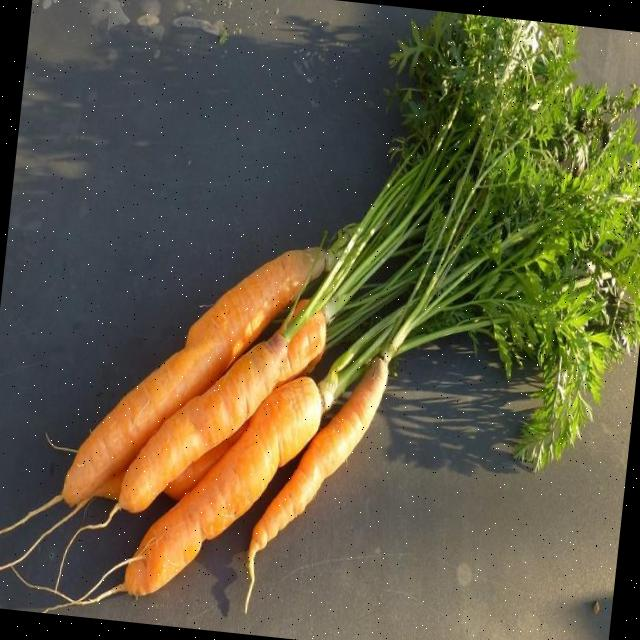carrot: (62, 247, 323, 503), (117, 293, 327, 515), (122, 378, 322, 595), (245, 358, 388, 608)
